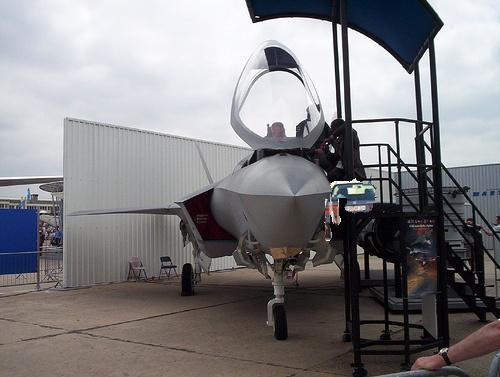tampered: (325, 179, 375, 241)
